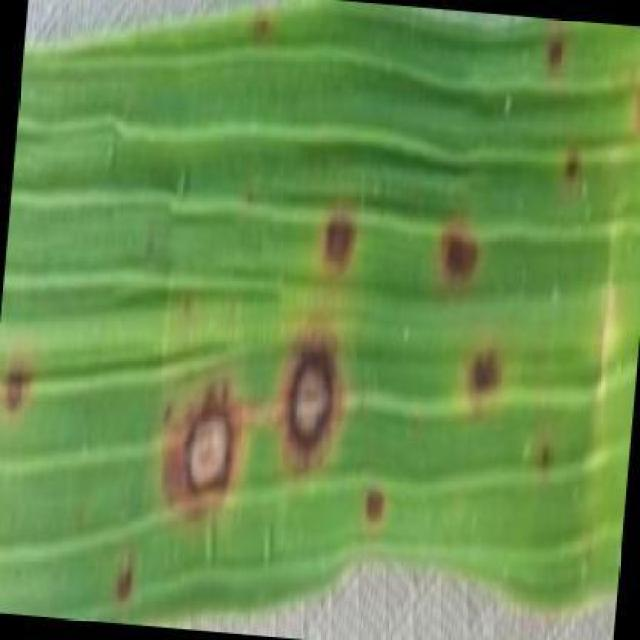Bacterial_Leaf_Blight: (144, 351, 261, 535), (268, 314, 369, 495)
Leaf_Blast: (297, 191, 378, 289), (417, 212, 497, 308), (447, 329, 518, 425), (0, 339, 54, 432), (530, 22, 584, 87), (348, 474, 399, 540), (99, 554, 150, 614), (239, 5, 292, 56), (551, 142, 592, 198), (524, 428, 562, 488), (615, 63, 640, 145), (167, 280, 204, 328)
